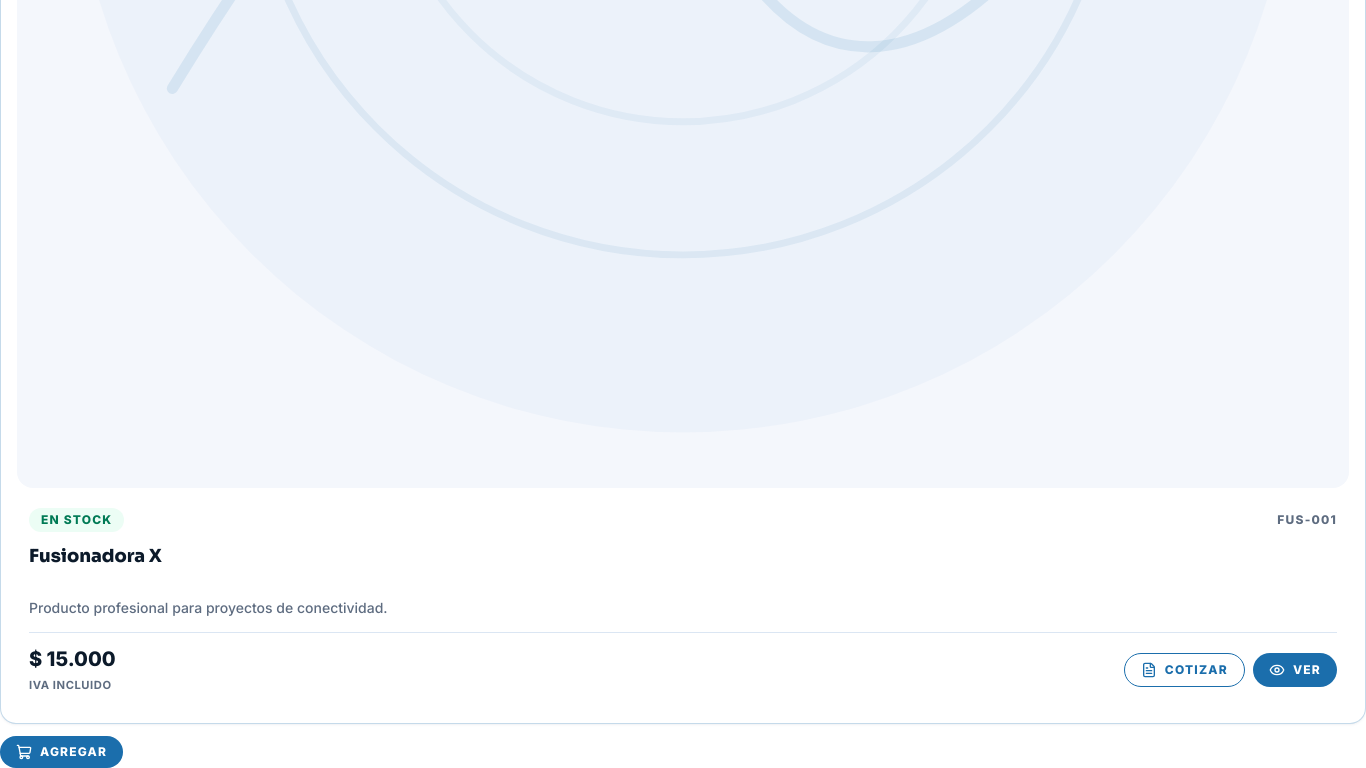
Test: CartContent › shows a visible confirmation when a product is added
The width and height of the screenshot is (1366, 768).
(page scrolled)
Click the button with aria-label "Agregar Fusionadora X al carrito": coordinates (62, 752) x1=0 y1=736 x2=123 y2=767
(page scrolled)
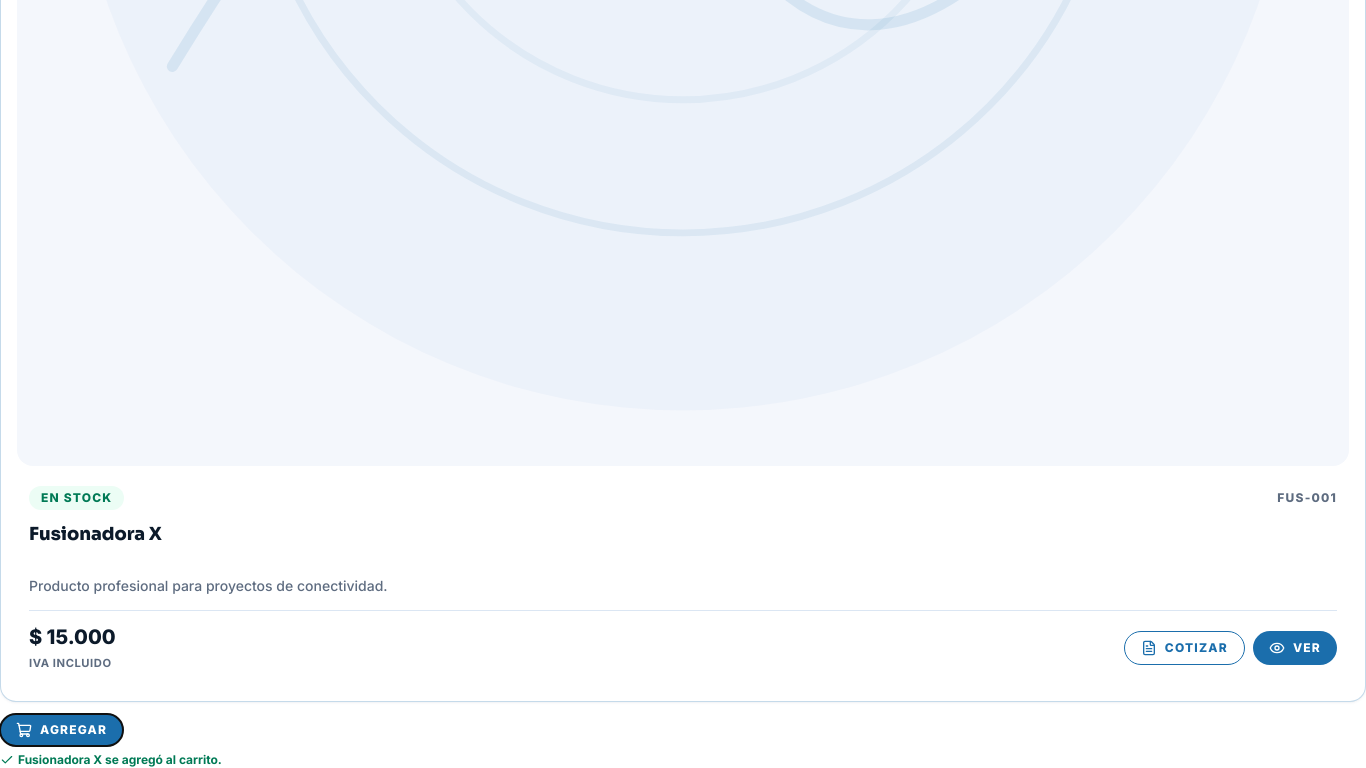
Check: the text "Fusionadora X se agregó al carrito." is shown, box x1=0 y1=752 x2=222 y2=767
